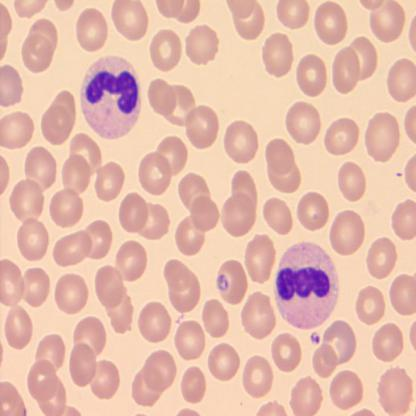Band Neutrophil: (272, 240, 341, 331), (80, 54, 142, 140)
